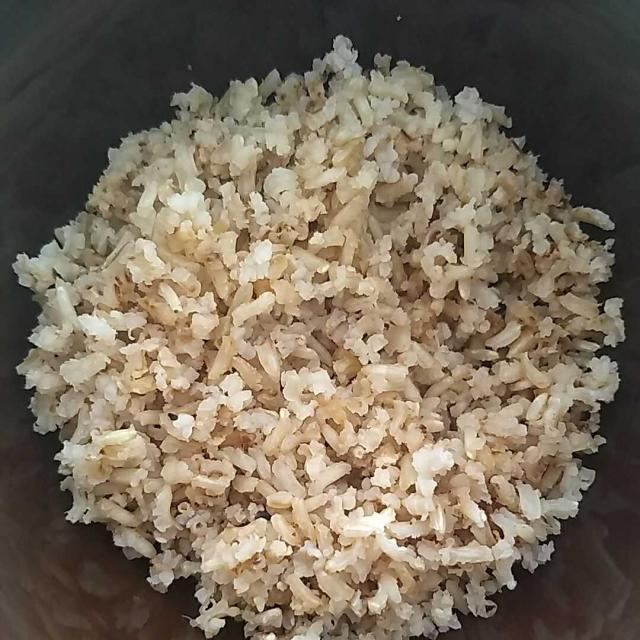arroz: (13, 44, 636, 633)
